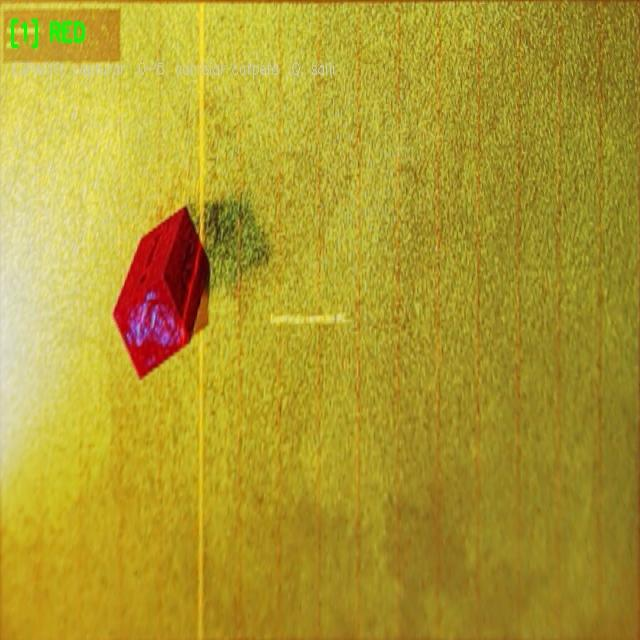red: (113, 208, 208, 376)
